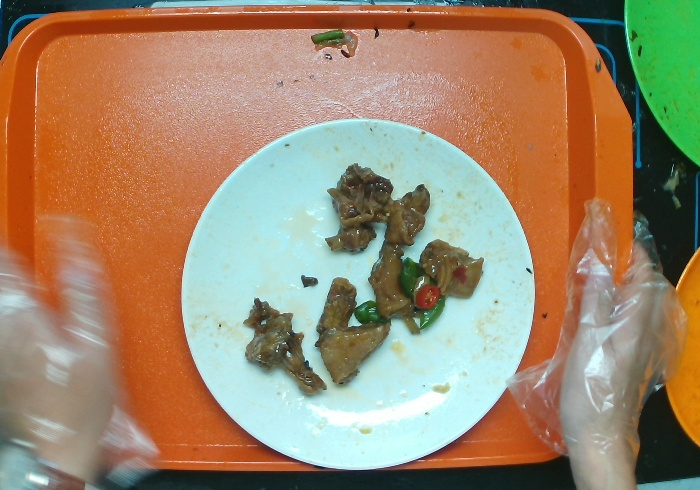HZYJPL-Bai_Se_Yuan_Pan: (177, 115, 537, 474)
